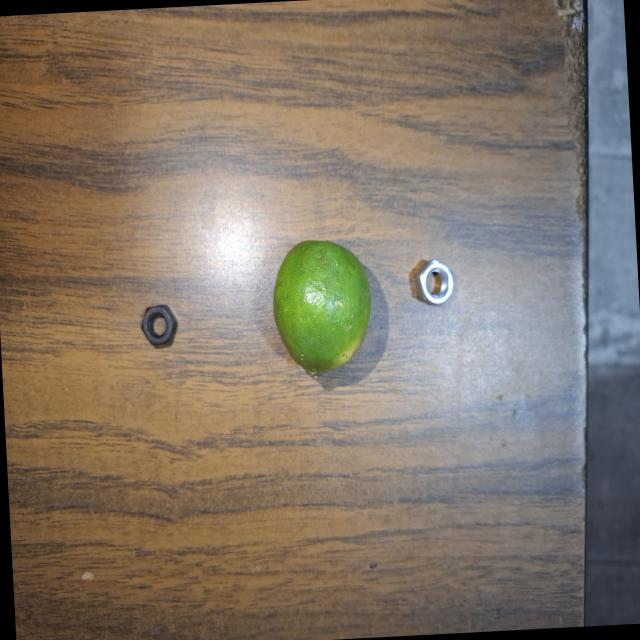limon: (266, 228, 382, 390)
milimetrico: (129, 297, 188, 353)
tuerca: (408, 248, 466, 320)
